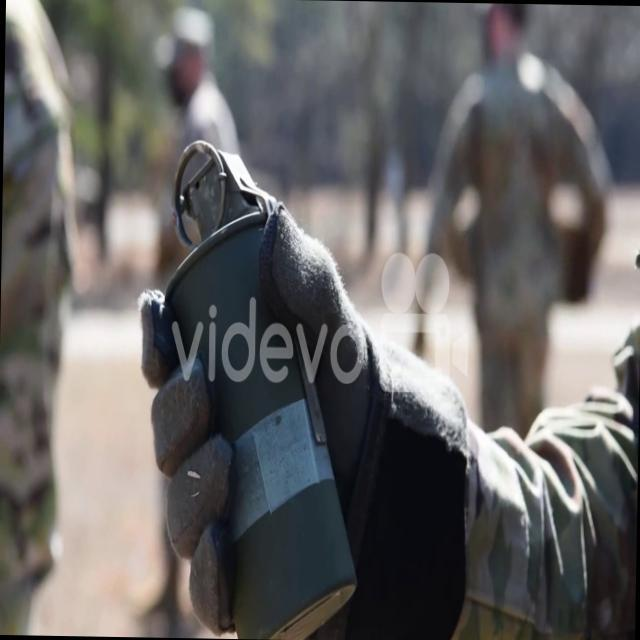grenade: (149, 134, 371, 636)
